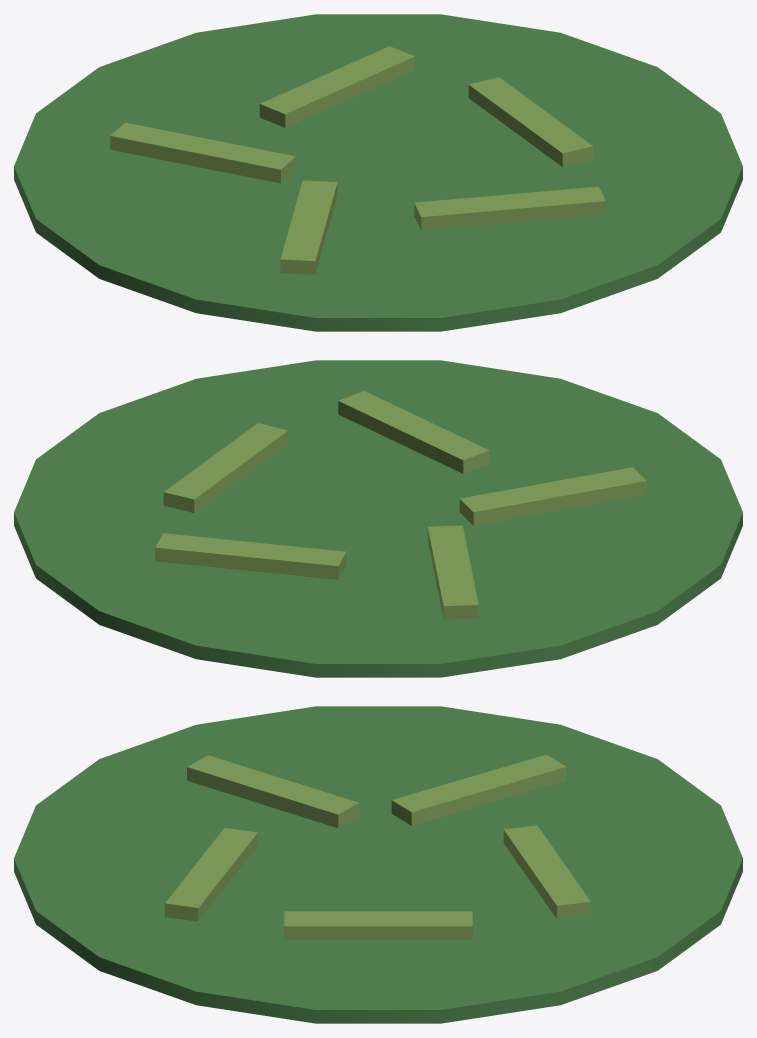
File: grove_rune_decal.glb
3 views of the same model, one above another, from view 1: azimuth 30°, elevation 25°; view 2: azimuth 150°, elevation 25°; view 3: azimuth 270°, elevation 25° (orthographic).
Visible parts, largest first — view 1: decal_plate, rune_1, rune_3, rune_4, rune_0, rune_2; view 2: decal_plate, rune_4, rune_2, rune_1, rune_0, rune_3; view 3: decal_plate, rune_0, rune_3, rune_2, rune_1, rune_4.
Boxes of the visible parts, bbox=[...] form: decal_plate: bbox=[14, 14, 742, 331]; rune_1: bbox=[414, 186, 605, 230]; rune_3: bbox=[110, 122, 295, 183]; rune_4: bbox=[259, 46, 414, 127]; rune_0: bbox=[468, 77, 593, 166]; rune_2: bbox=[280, 180, 337, 274]; decal_plate: bbox=[14, 360, 742, 677]; rune_4: bbox=[155, 533, 346, 579]; rune_2: bbox=[459, 467, 646, 525]; rune_1: bbox=[338, 391, 489, 473]; rune_0: bbox=[163, 423, 288, 512]; rune_3: bbox=[427, 525, 478, 619]; decal_plate: bbox=[14, 706, 742, 1023]; rune_0: bbox=[284, 911, 472, 939]; rune_3: bbox=[391, 754, 566, 825]; rune_2: bbox=[187, 755, 359, 828]; rune_1: bbox=[165, 828, 257, 921]; rune_4: bbox=[503, 825, 590, 919].
Size of what is drawn, in the model's own units: 2.86 by 0.12 by 2.9.
